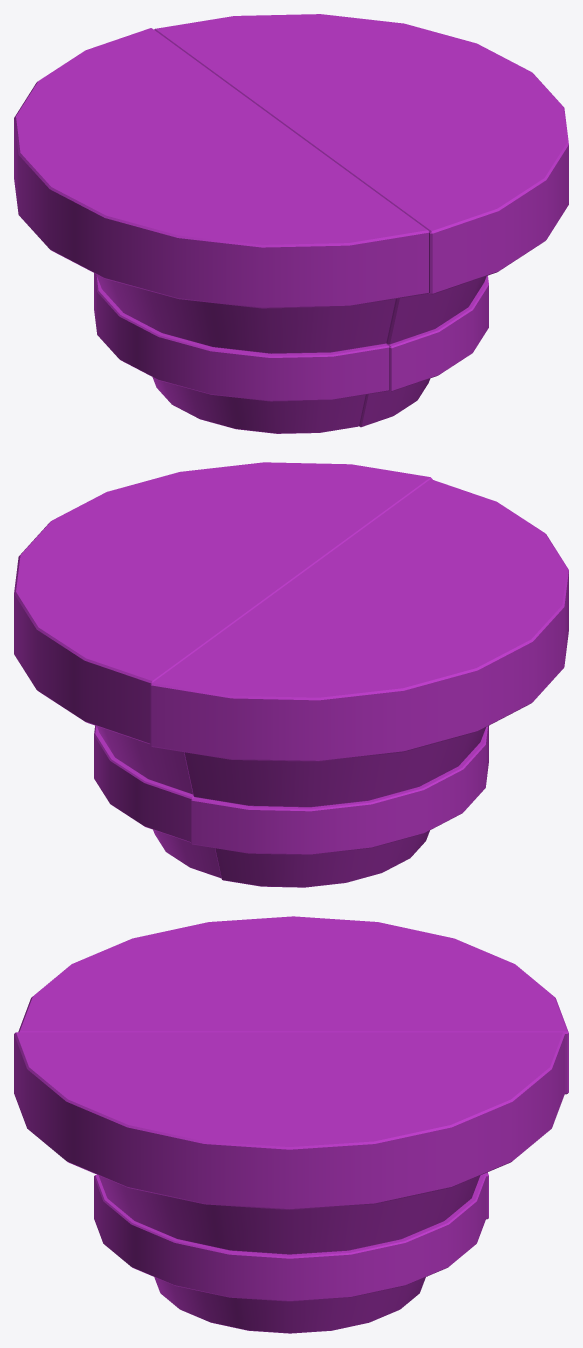
Rendered from Statues_Grp_02A_Lod0.fbx.
The picture shows the model from 3 angles, top to bottom: view 1: azimuth 30°, elevation 25°; view 2: azimuth 150°, elevation 25°; view 3: azimuth 270°, elevation 25°; orthographic projection.
Parts seen in each view (by area): view 1: Statues_Grp_02A_Lod0; view 2: Statues_Grp_02A_Lod0; view 3: Statues_Grp_02A_Lod0.
Part boxes in pixels (x1,y1,x2,y2): Statues_Grp_02A_Lod0: [14, 14, 568, 433]; Statues_Grp_02A_Lod0: [14, 462, 568, 887]; Statues_Grp_02A_Lod0: [14, 916, 568, 1333].
Size of the model in its own units: 255 by 125 by 257.
